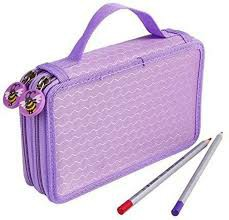pen: (121, 139, 210, 211), (173, 133, 220, 213)
